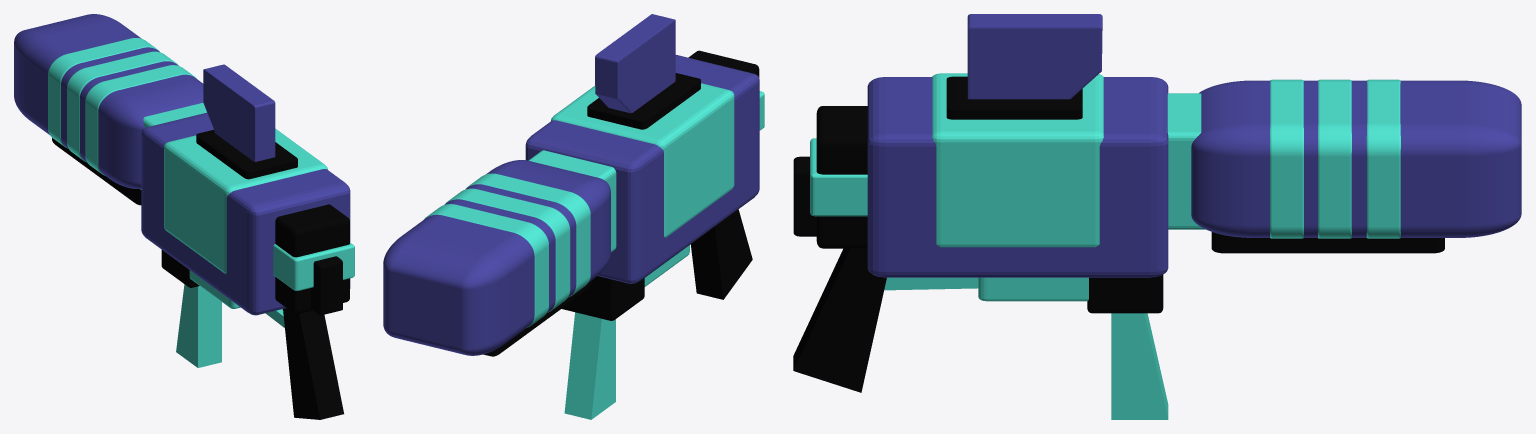
The model's file is gun2.fbx.
3 views of the same model, side by side, from view 1: azimuth 30°, elevation 25°; view 2: azimuth 150°, elevation 25°; view 3: azimuth 270°, elevation 25° (orthographic). The views are drawn at different scales.
Parts seen in each view (by area): view 1: Cube, Cube.006, Cube.004, Cube.002, Cube.014, Cube.003, Cube.013, Cube.007, Cube.009, Cube.008, Cube.001, Cube.018 (+5 smaller); view 2: Cube.006, Cube, Cube.004, Cube.002, Cube.013, Cube.014, Cube.009, Cube.007, Cube.008, Cube.001, Cube.012, Cube.005 (+3 smaller); view 3: Cube.006, Cube, Cube.004, Cube.002, Cube.014, Cube.008, Cube.009, Cube.007, Cube.003, Cube.013, Cube.005, Cube.010 (+6 smaller).
Part boxes in pixels (x1=…): Cube: x1=141, y1=112, x2=350, y2=315; Cube.006: x1=14, y1=14, x2=203, y2=188; Cube.004: x1=164, y1=128, x2=327, y2=273; Cube.002: x1=203, y1=64, x2=275, y2=161; Cube.014: x1=283, y1=308, x2=343, y2=419; Cube.003: x1=275, y1=204, x2=349, y2=314; Cube.013: x1=176, y1=284, x2=221, y2=367; Cube.007: x1=85, y1=65, x2=196, y2=175; Cube.009: x1=67, y1=51, x2=177, y2=161; Cube.008: x1=48, y1=38, x2=159, y2=148; Cube.001: x1=196, y1=129, x2=297, y2=179; Cube.018: x1=273, y1=242, x2=354, y2=290; Cube.006: x1=383, y1=160, x2=610, y2=355; Cube: x1=525, y1=55, x2=759, y2=283; Cube.004: x1=551, y1=83, x2=734, y2=237; Cube.002: x1=595, y1=14, x2=675, y2=113; Cube.013: x1=564, y1=312, x2=615, y2=419; Cube.014: x1=690, y1=209, x2=752, y2=299; Cube.009: x1=445, y1=188, x2=570, y2=312; Cube.007: x1=466, y1=173, x2=590, y2=297; Cube.008: x1=424, y1=204, x2=548, y2=327; Cube.001: x1=587, y1=73, x2=700, y2=129; Cube.012: x1=561, y1=276, x2=644, y2=320; Cube.005: x1=528, y1=150, x2=616, y2=252; Cube.006: x1=1191, y1=80, x2=1521, y2=237; Cube: x1=867, y1=77, x2=1168, y2=277; Cube.004: x1=932, y1=73, x2=1103, y2=247; Cube.002: x1=967, y1=14, x2=1102, y2=99; Cube.014: x1=793, y1=248, x2=886, y2=392; Cube.008: x1=1366, y1=79, x2=1400, y2=238; Cube.009: x1=1318, y1=79, x2=1351, y2=238; Cube.007: x1=1270, y1=79, x2=1303, y2=238; Cube.003: x1=816, y1=106, x2=867, y2=248; Cube.013: x1=1111, y1=313, x2=1168, y2=419; Cube.005: x1=1167, y1=93, x2=1205, y2=229; Cube.010: x1=1211, y1=232, x2=1444, y2=253.
Bounding box in the file's own units: 155 × 436 × 734.
